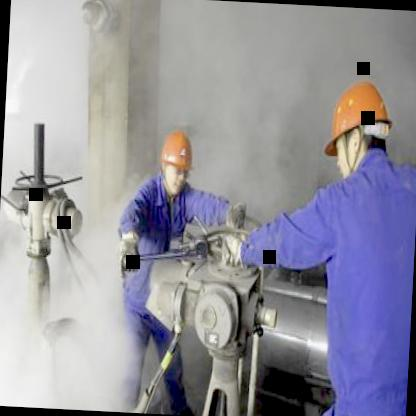helmet: (321, 72, 394, 184), (156, 125, 196, 197)
